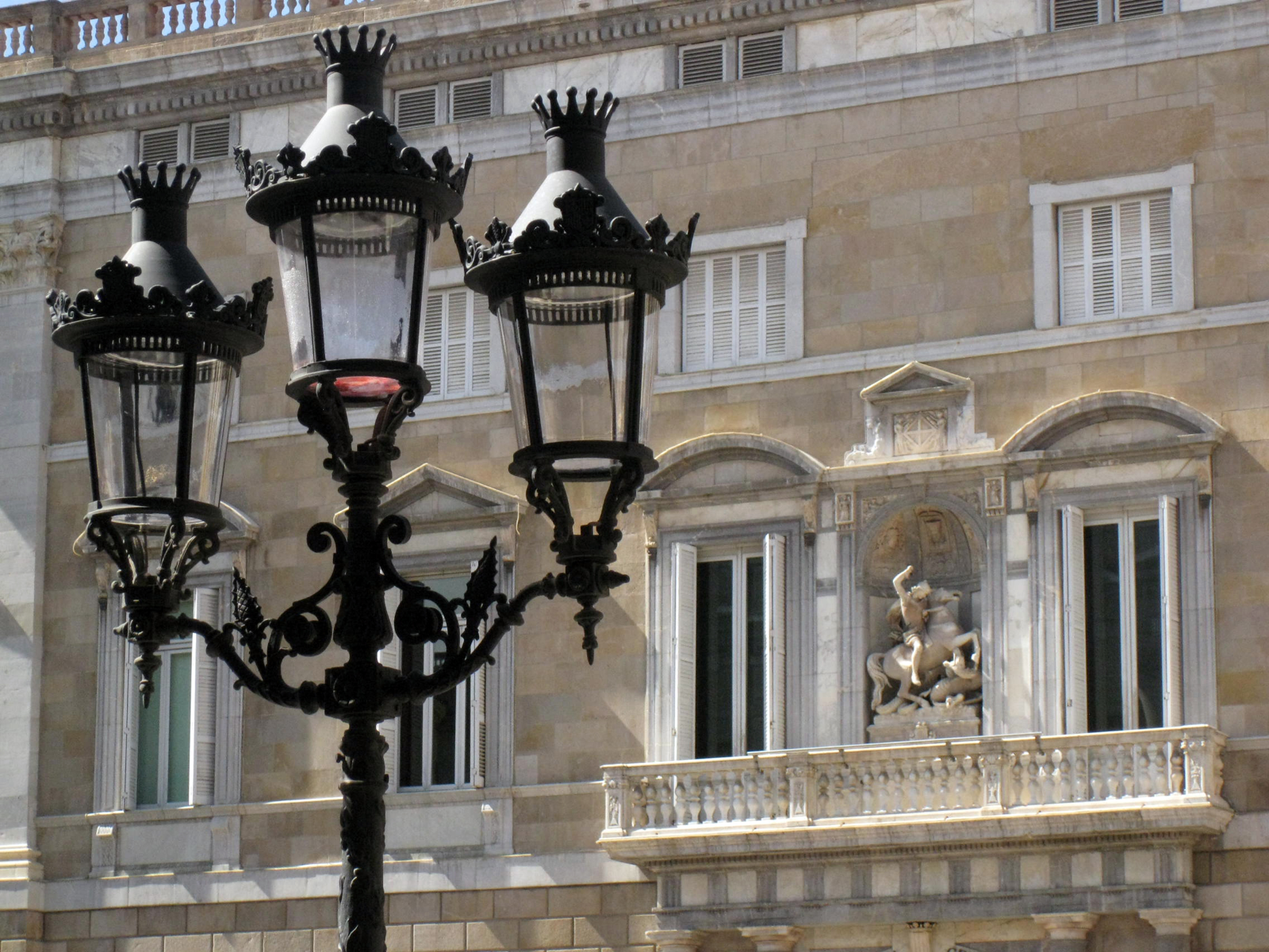fachada: (0, 3, 1269, 952)
poste: (58, 29, 703, 952)
